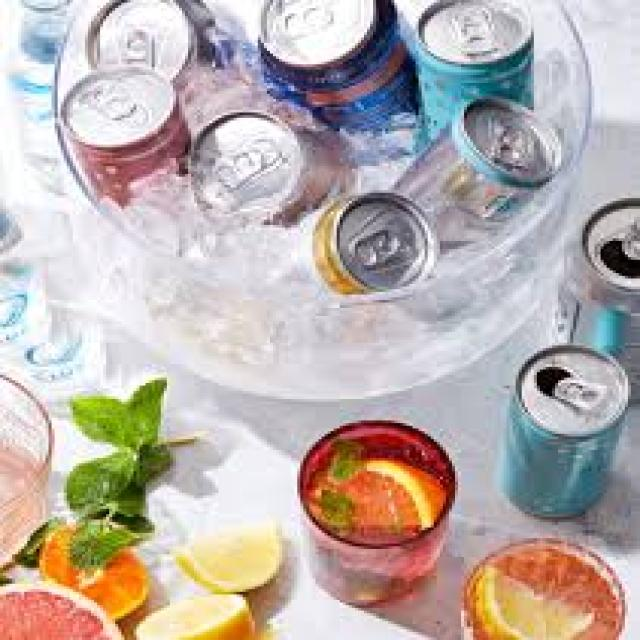Cans: (497, 340, 625, 517)
